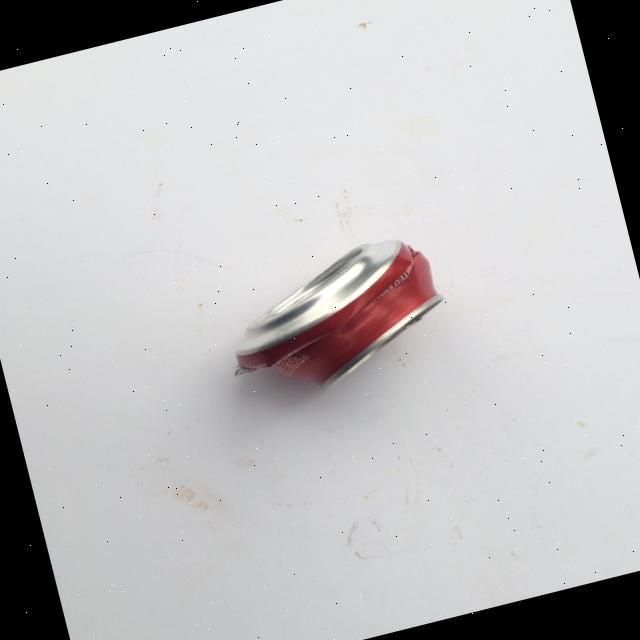metal: (212, 227, 458, 410)
